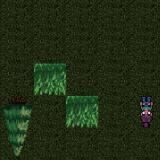Obstacle: (3, 96, 34, 130)
Slow: (66, 96, 99, 128), (34, 64, 66, 96)
Victim: (132, 92, 160, 130)
